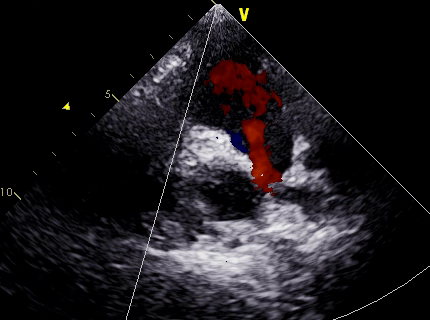PR: (244, 143, 297, 208)
